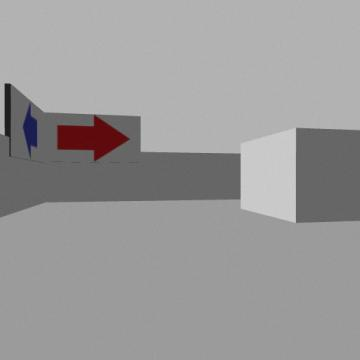blue_left: (23, 104, 37, 158)
red_right: (57, 116, 129, 160)
